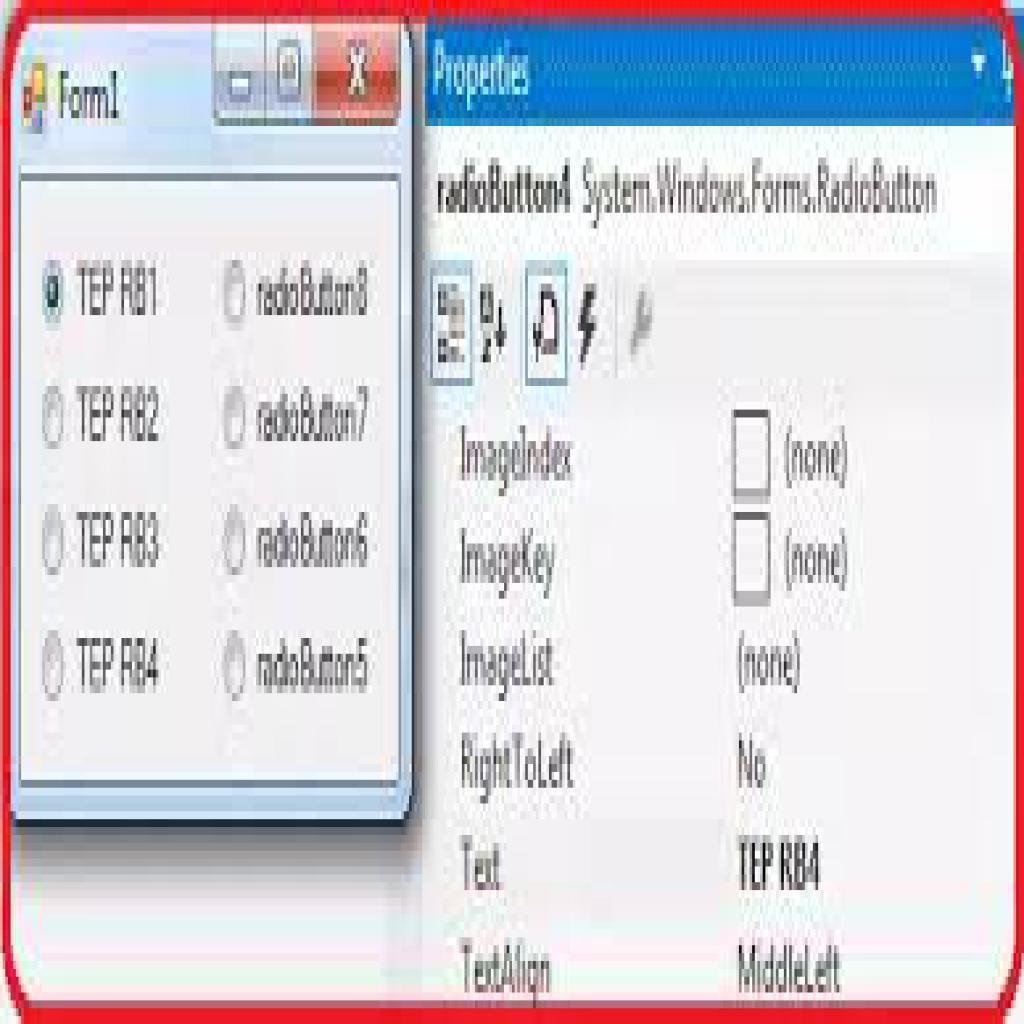checkbox: (734, 512, 773, 603), (733, 410, 772, 499)
dropdown: (427, 20, 998, 125)
icon: (474, 282, 514, 367), (625, 288, 662, 363), (437, 282, 469, 367), (531, 286, 563, 362), (576, 282, 602, 371)
label: (255, 508, 369, 578), (254, 635, 369, 699), (71, 254, 167, 325), (257, 386, 374, 444), (71, 506, 165, 572), (257, 265, 370, 318), (77, 635, 168, 700), (75, 381, 161, 449), (779, 524, 853, 598), (784, 421, 856, 495)
radio: (220, 631, 250, 704), (222, 260, 250, 331), (222, 504, 249, 576), (222, 385, 251, 452), (42, 504, 67, 577), (42, 631, 67, 703), (42, 259, 66, 333), (42, 384, 67, 453)
